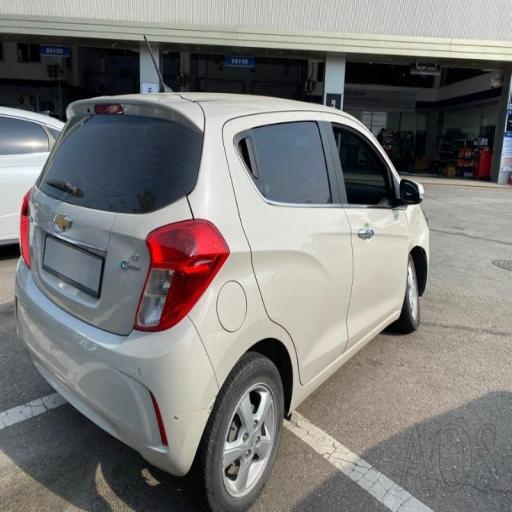dent: (56, 336, 186, 447)
